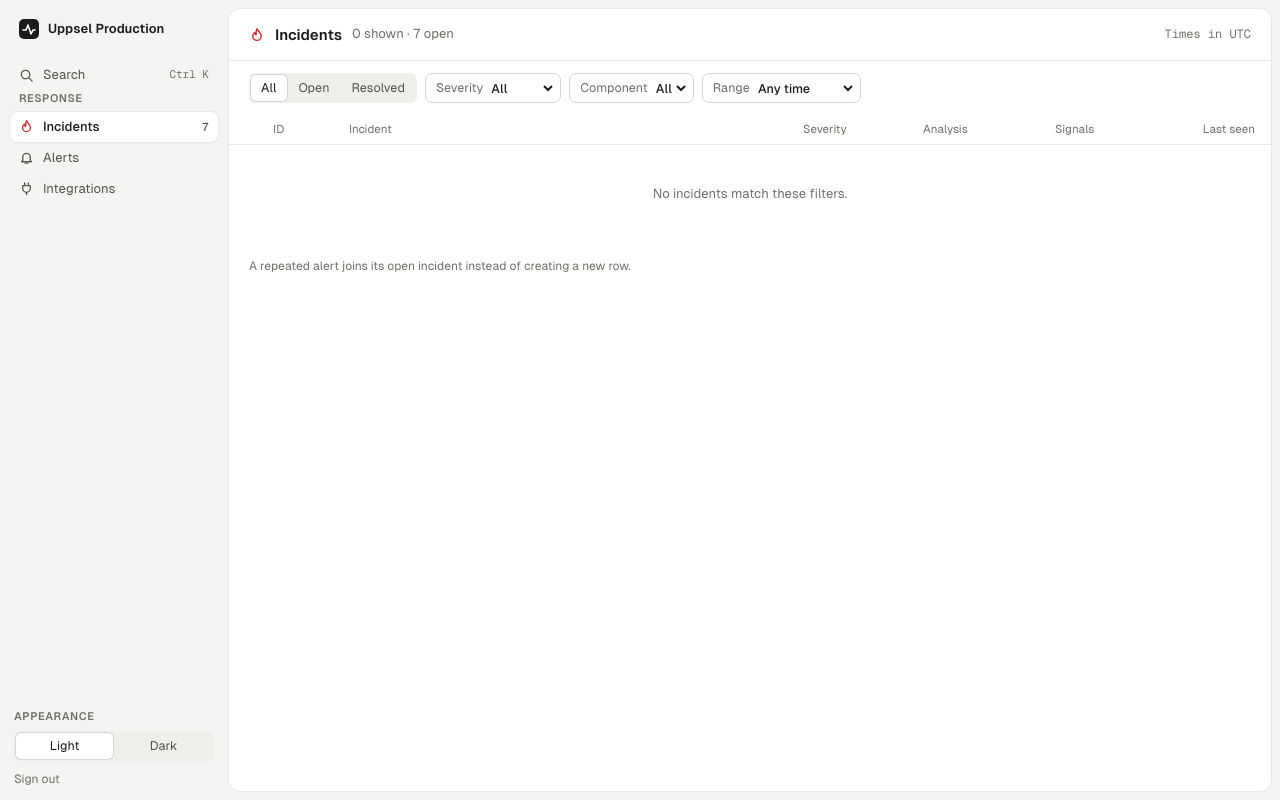
Test case: search › opens from the sidebar and closes on Escape
The width and height of the screenshot is (1280, 800).
Click the button "Search Ctrl K". click: (114, 75)
box: [10, 60, 218, 90]
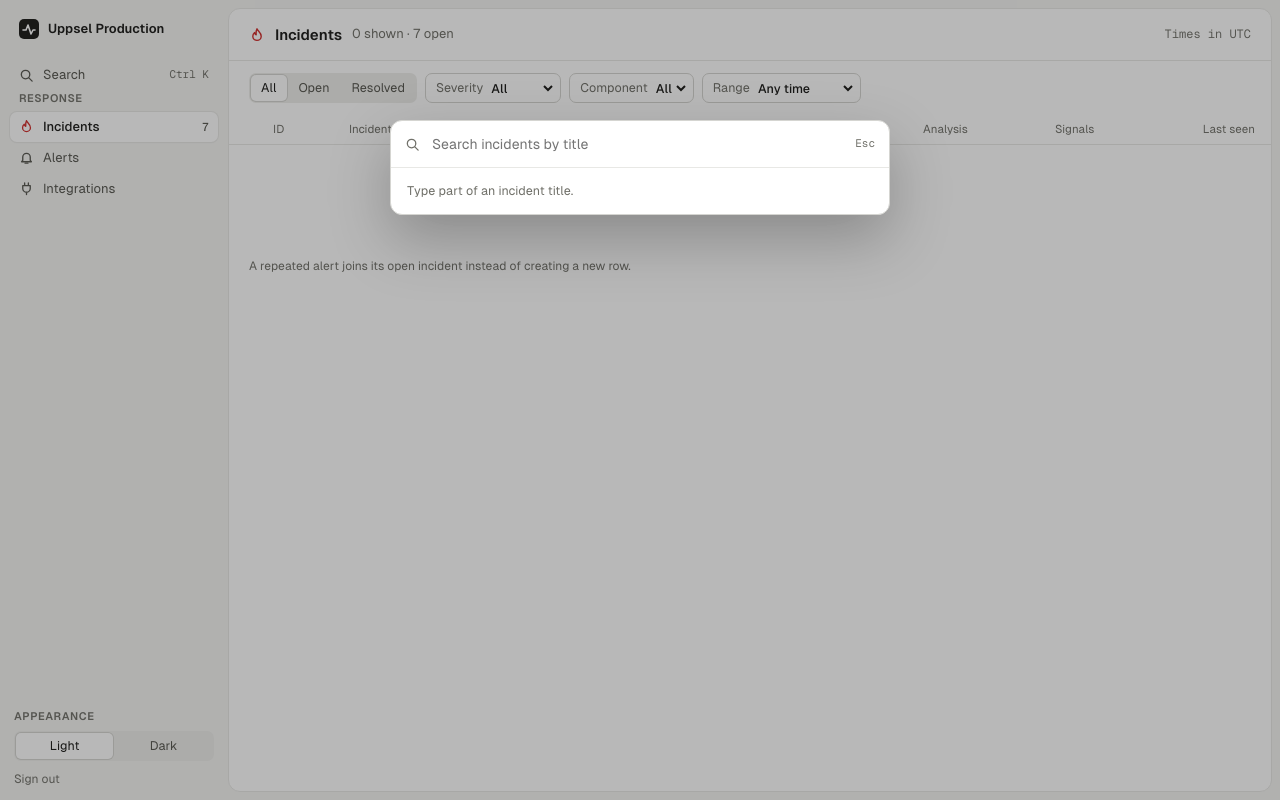
Type "zzz" into the dropdown. click: (638, 144)
box: [430, 133, 845, 155]
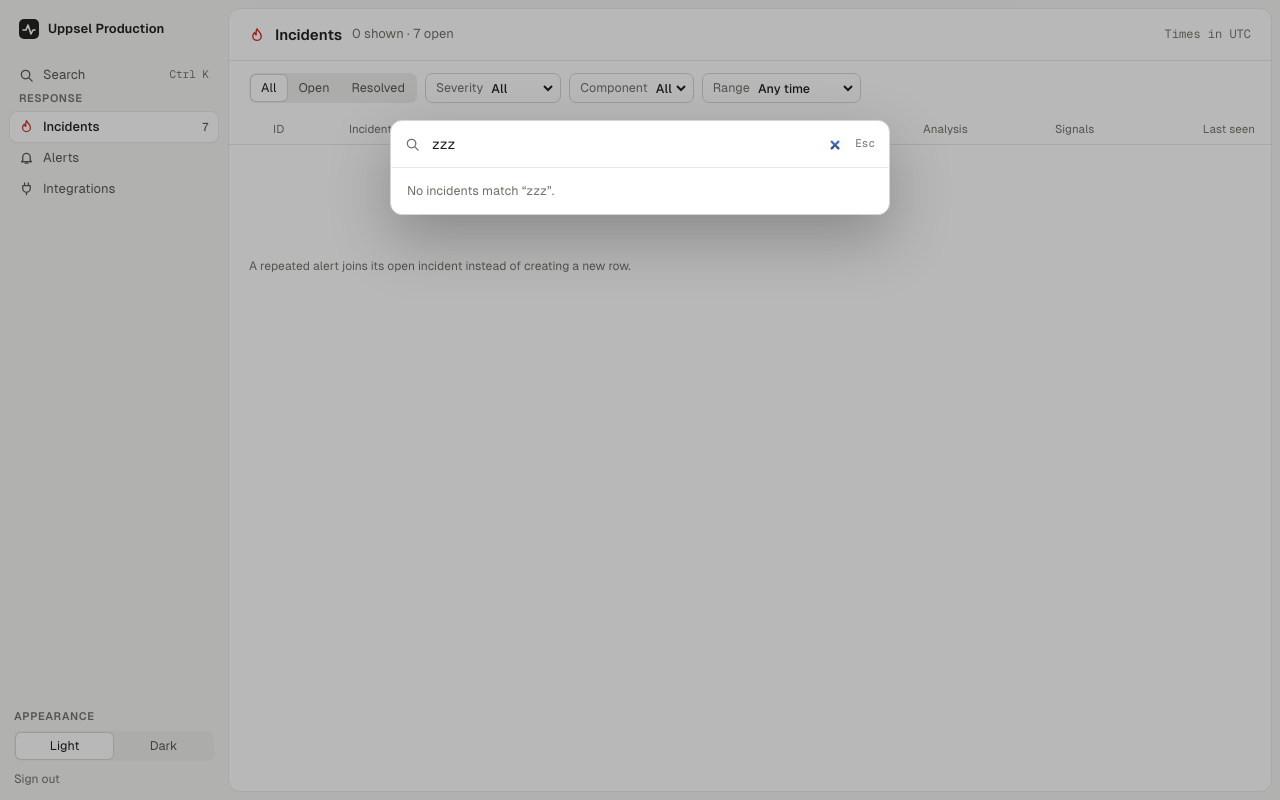
Expected: the text "No incidents match “zzz”." is shown, [407, 183, 554, 198]
Press Escape
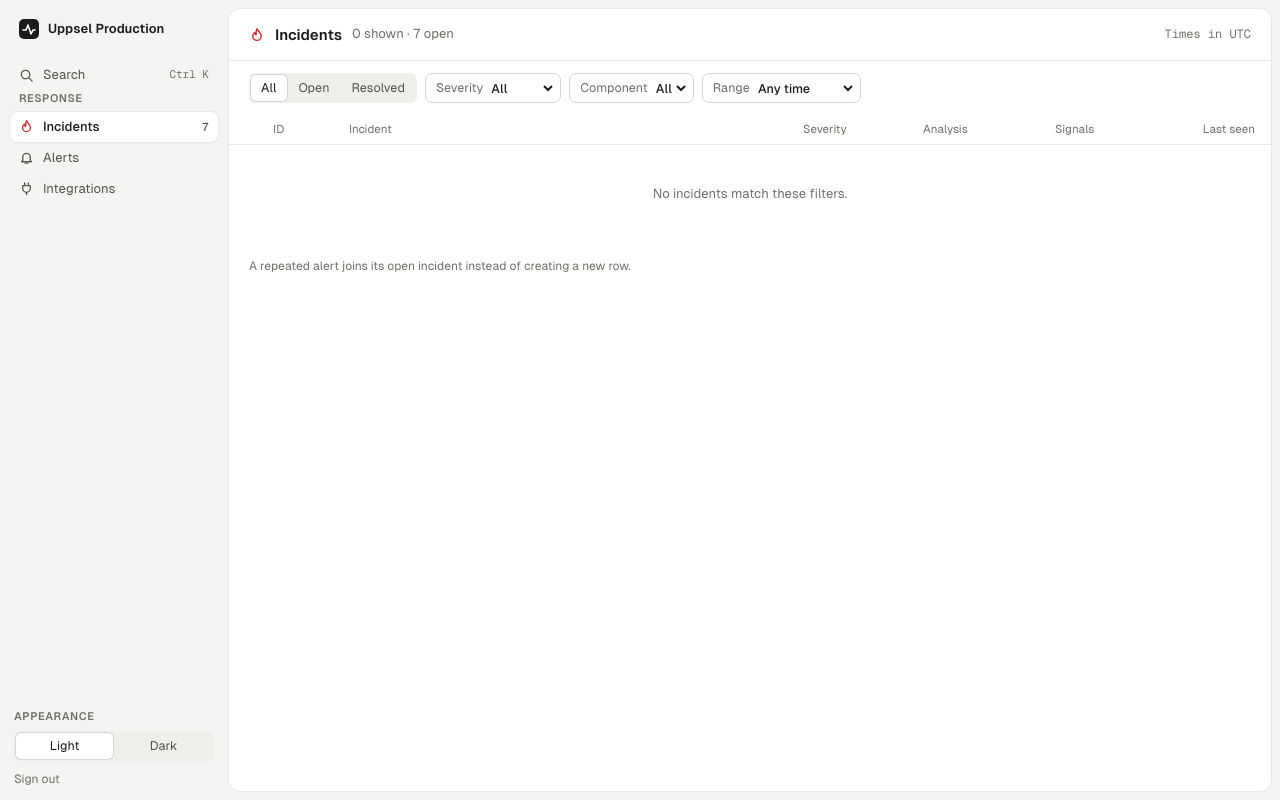
Expected: the dialog is gone
